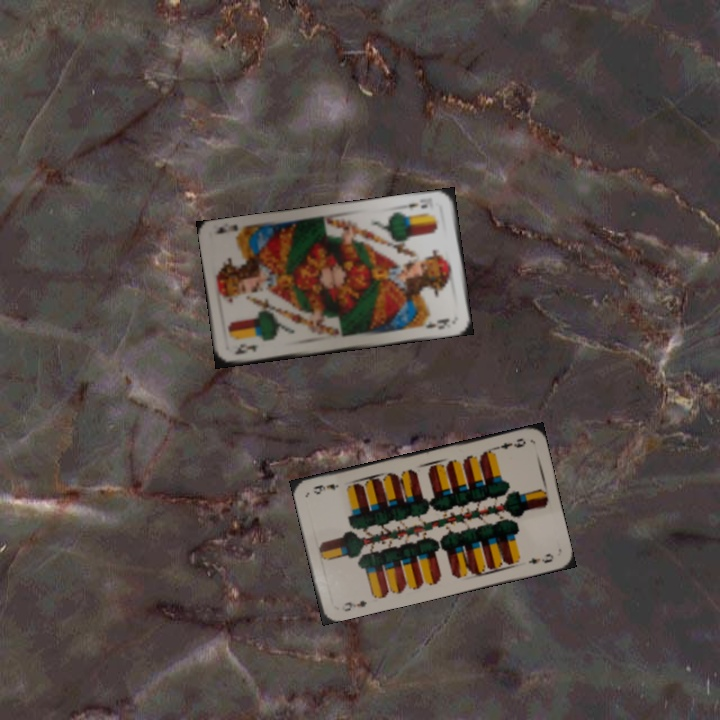E9: (490, 434, 528, 453), (339, 596, 370, 614)
EK: (230, 340, 261, 357), (399, 199, 430, 211)
